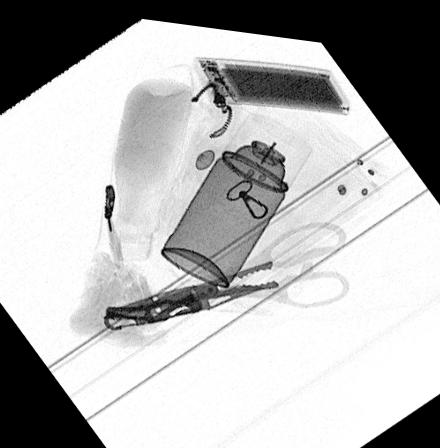Knife: (102, 280, 262, 325)
Powerbank: (191, 54, 352, 100)
Scissors: (112, 214, 349, 311)
Sprayer: (159, 104, 313, 281)
